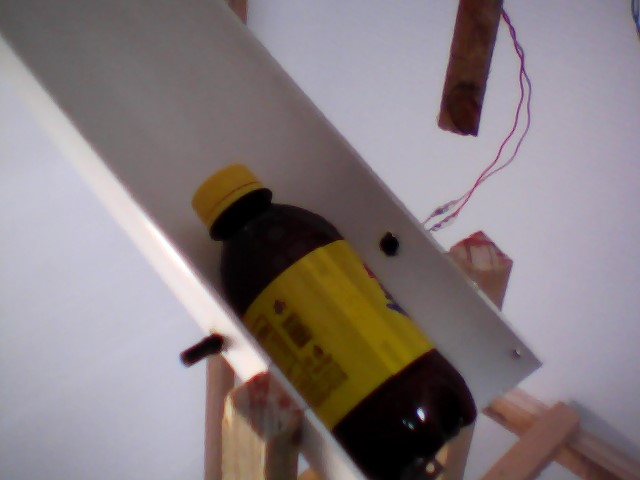plastico: (191, 159, 488, 480)
